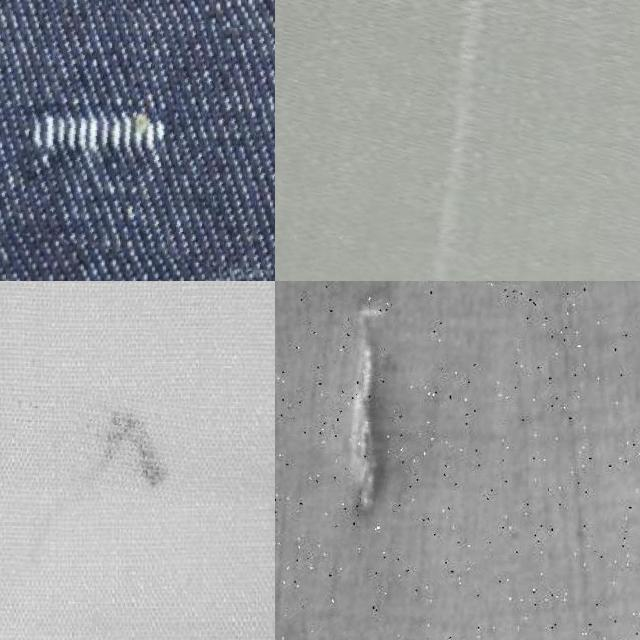Thread_other: (66, 390, 194, 502)
other: (275, 281, 518, 640)
stains: (275, 0, 640, 281)
